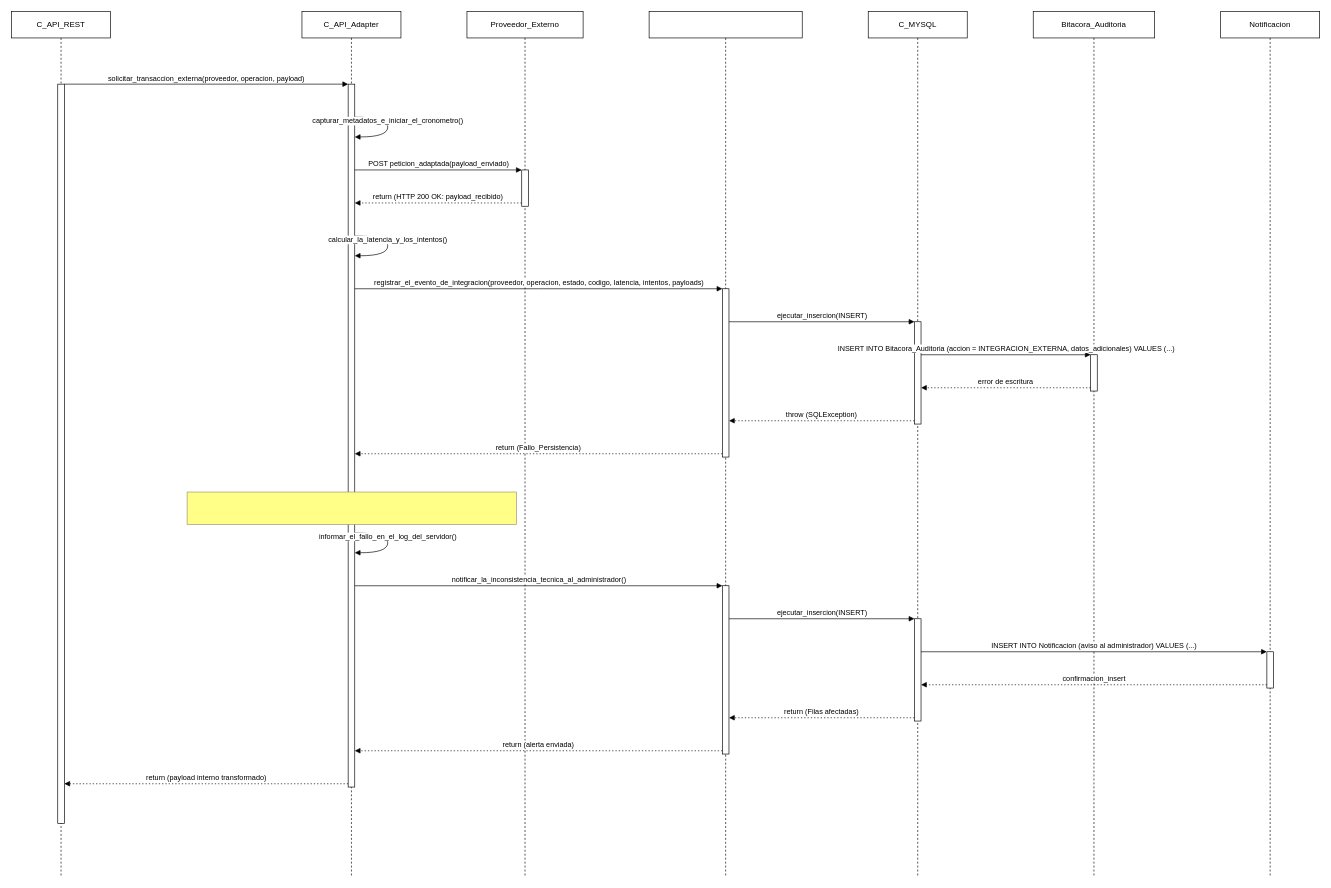
Image size: 1331x888. Some labels were removed from this diagram. The centre of each missing label's shape, as x and y in pixels:
C_Capa_de_Acceso_a_Datos: [725,443]
Falla la persistencia del registro: la operacion principal continua: [351,507]
